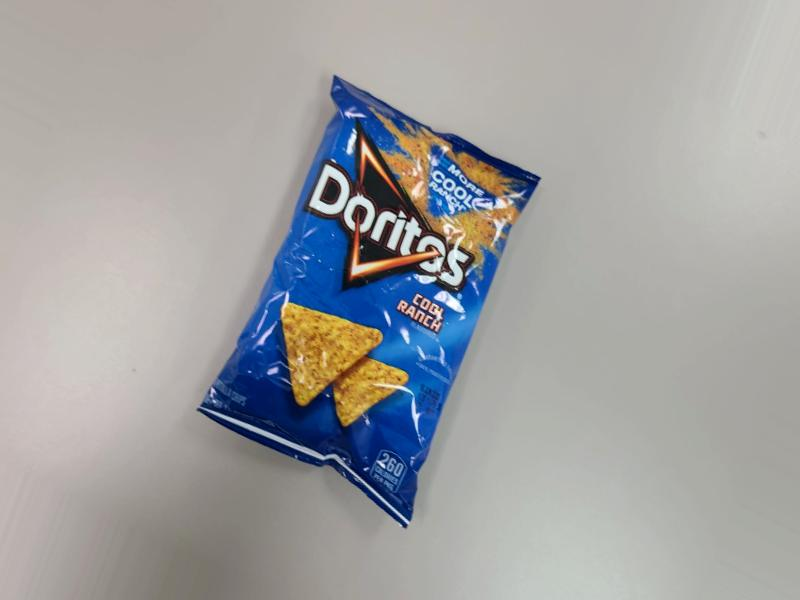doritos: (187, 168, 557, 600)
